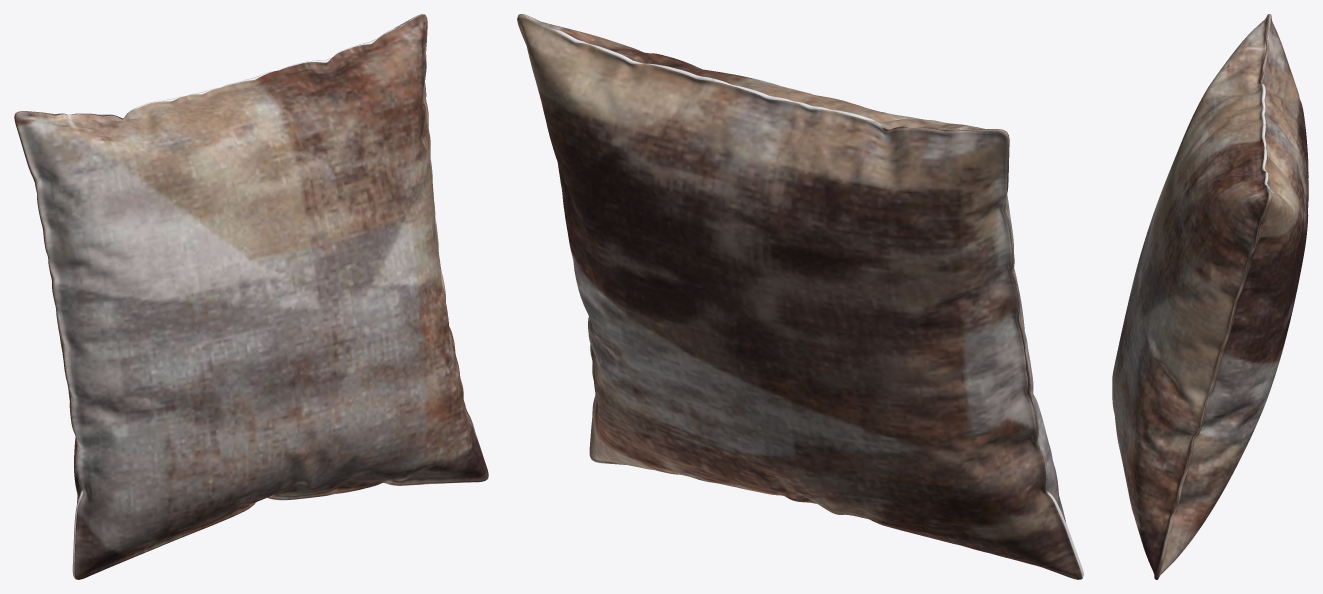
File: yastik.glb
3 renders of one model, left to right at view 1: azimuth 30°, elevation 25°; view 2: azimuth 150°, elevation 25°; view 3: azimuth 270°, elevation 25°, orthographic. The views are drawn at different scales.
Parts seen in each view (by area): view 1: venon; view 2: venon; view 3: venon.
Part boxes in pixels (bbox=[...]): venon: bbox=[14, 14, 488, 579]; venon: bbox=[517, 14, 1083, 579]; venon: bbox=[1112, 14, 1308, 579].
Bounding box in the file's own units: 1.95 × 1.89 × 0.8756.
1 material, 1 textured.
